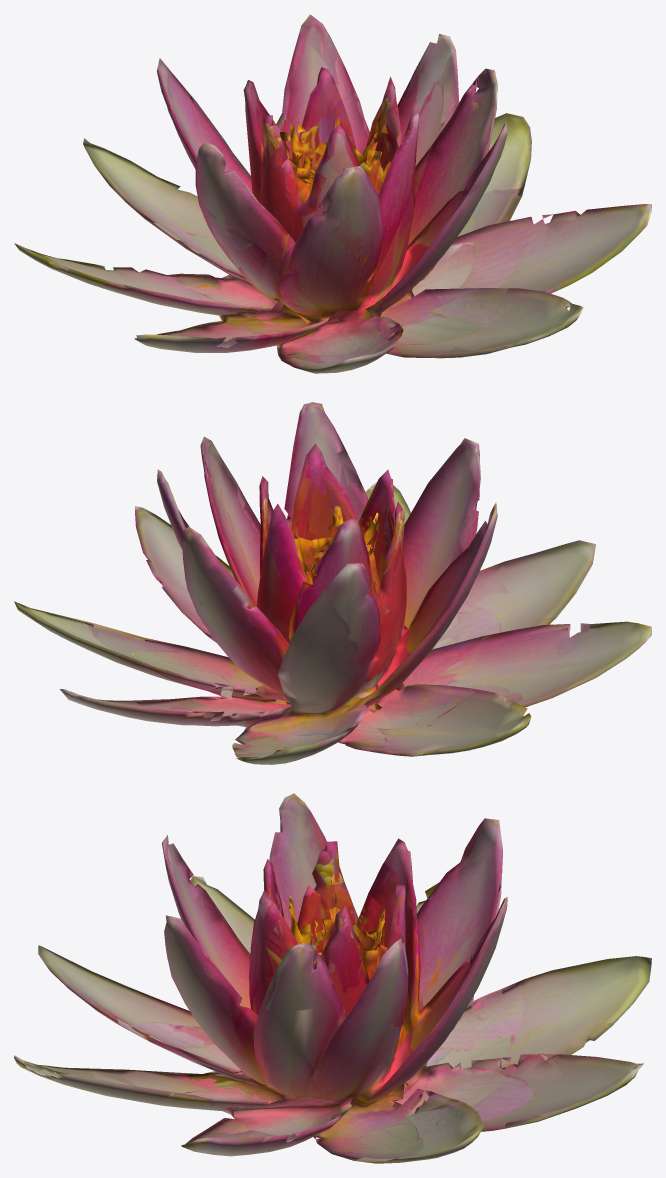
Rendered from Lily_Bloom.glb.
The picture shows the model from 3 angles, top to bottom: view 1: azimuth 30°, elevation 25°; view 2: azimuth 150°, elevation 25°; view 3: azimuth 270°, elevation 25°; orthographic projection. The views are drawn at different scales.
Visible parts, largest first — view 1: Mesh1; view 2: Mesh1; view 3: Mesh1.
Boxes of the visible parts, x1,y1,x2,y2 form: Mesh1: (14, 14, 651, 373); Mesh1: (14, 402, 651, 764); Mesh1: (14, 793, 651, 1163).
Bounding box in the file's own units: 1.24 × 0.5267 × 1.26.
1 material, 1 textured.
